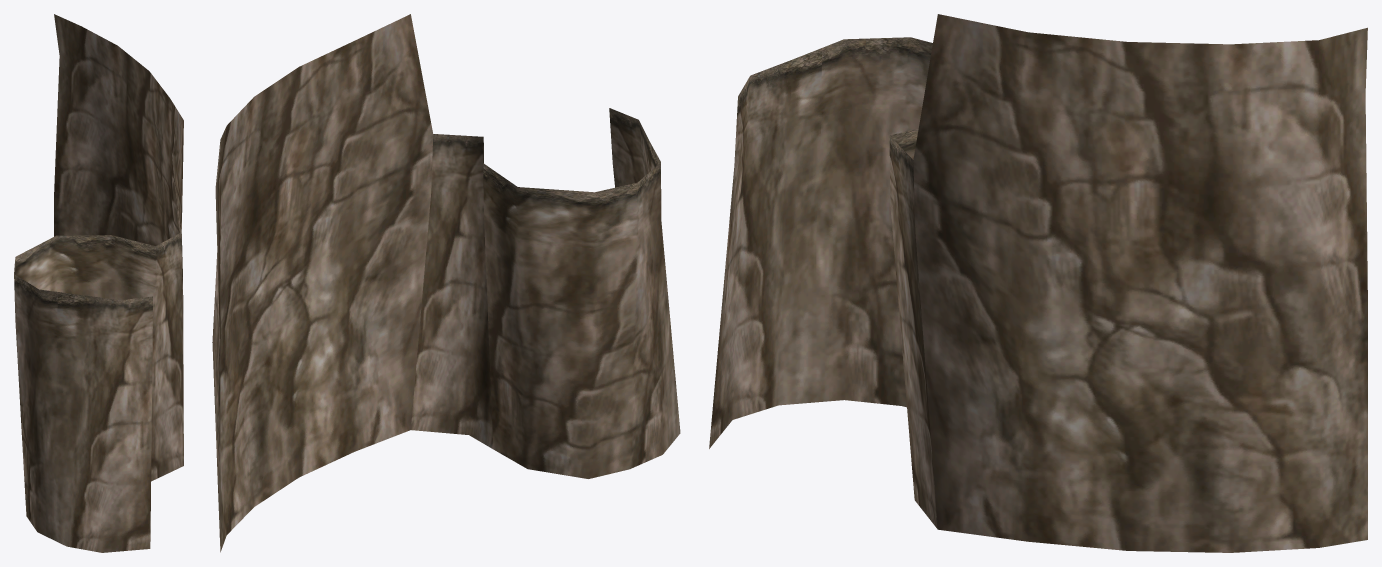
File: OVERHILL_A_01_OBJECT38.fbx
3 views of the same model, side by side, from view 1: azimuth 30°, elevation 25°; view 2: azimuth 150°, elevation 25°; view 3: azimuth 270°, elevation 25° (orthographic). The views are drawn at different scales.
Visible parts, largest first — view 1: OVERHILL_A_01_OBJECT38; view 2: OVERHILL_A_01_OBJECT38; view 3: OVERHILL_A_01_OBJECT38.
Boxes of the visible parts, <box> form: OVERHILL_A_01_OBJECT38: <box>14,14,183,552</box>; OVERHILL_A_01_OBJECT38: <box>212,14,680,552</box>; OVERHILL_A_01_OBJECT38: <box>709,14,1367,552</box>.
Size of the model in its own units: 45199 by 66689 by 77219.
2 materials, 2 textured.
